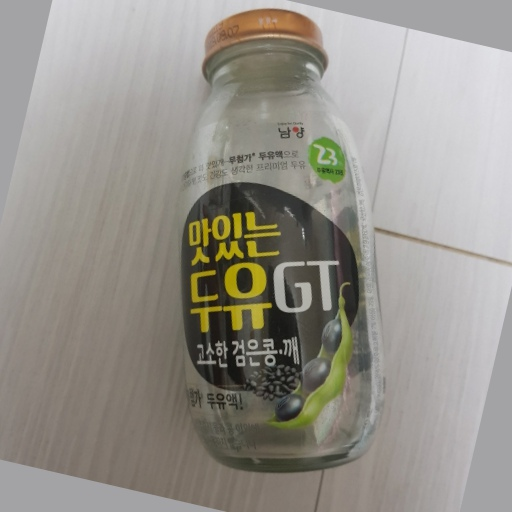Glass_4: (184, 6, 384, 474)
